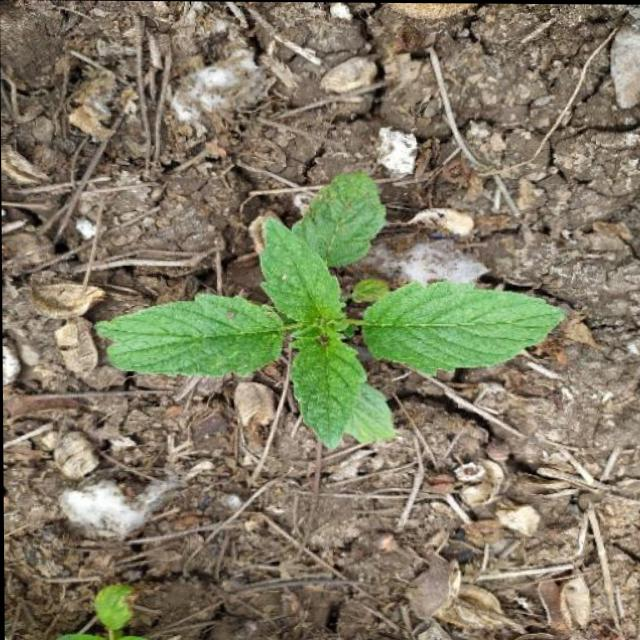crop: (81, 165, 589, 459)
